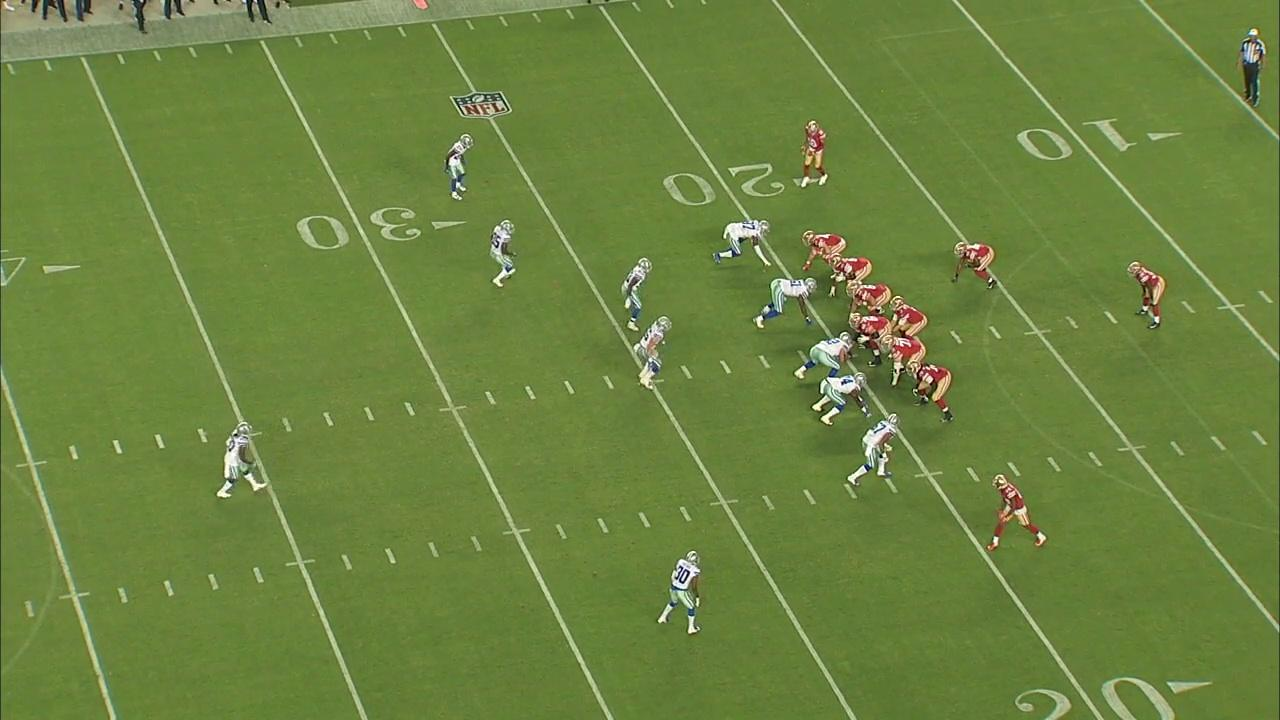defense: (657, 547, 706, 637), (845, 412, 901, 484), (217, 422, 268, 501), (754, 275, 821, 327), (632, 315, 675, 394), (812, 372, 868, 428), (795, 331, 855, 380), (621, 258, 652, 333), (445, 131, 479, 199), (715, 219, 771, 260), (488, 218, 517, 293)
oline: (907, 361, 955, 423), (825, 254, 878, 300), (883, 335, 925, 390), (799, 228, 849, 273), (844, 313, 885, 363), (847, 284, 891, 315)
qb: (888, 296, 928, 336)
ref: (1235, 26, 1266, 107)
skill: (984, 469, 1048, 556), (1131, 260, 1169, 335), (951, 240, 998, 290), (798, 122, 830, 189)
